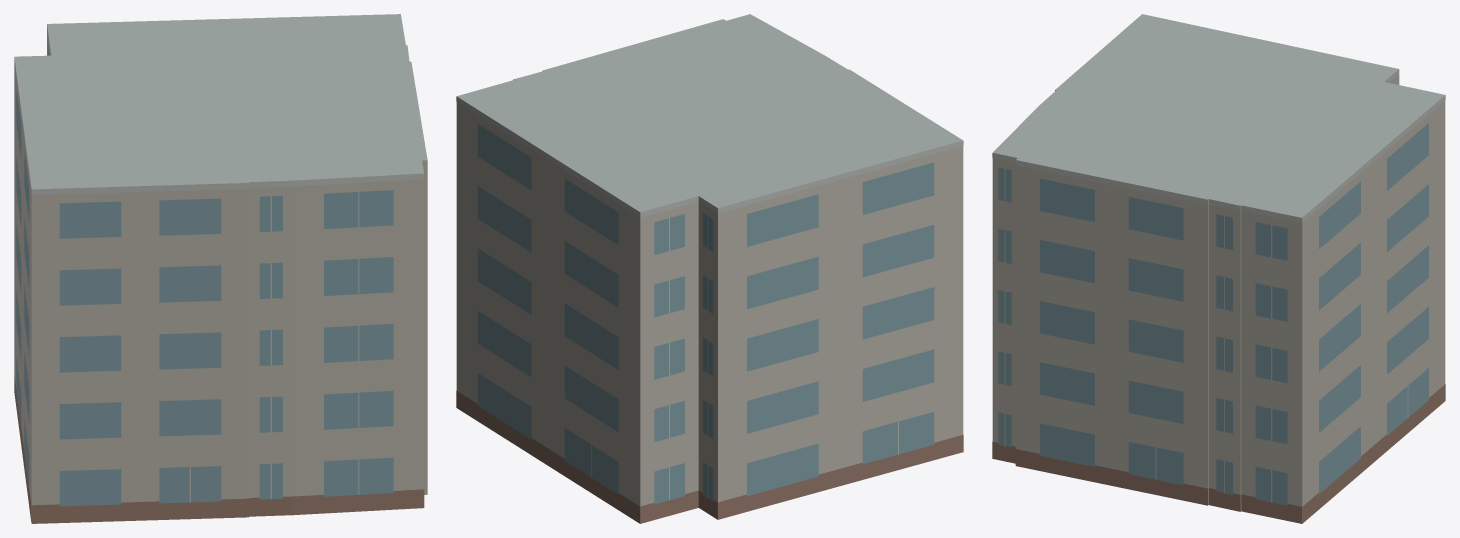
File: survey-upis-32672159.glb
The picture shows the model from 3 angles, left to right: view 1: azimuth 30°, elevation 25°; view 2: azimuth 150°, elevation 25°; view 3: azimuth 270°, elevation 25°; orthographic projection. The views are drawn at different scales.
Parts seen in each view (by area): view 1: survey-upis-32672159.tmp; view 2: survey-upis-32672159.tmp; view 3: survey-upis-32672159.tmp.
Boxes of the visible parts, x1,y1,x2,y2 form: survey-upis-32672159.tmp: [14, 14, 427, 523]; survey-upis-32672159.tmp: [456, 14, 963, 523]; survey-upis-32672159.tmp: [992, 14, 1445, 523].
Bounding box in the file's own units: 20.3 × 14.2 × 19.06.
